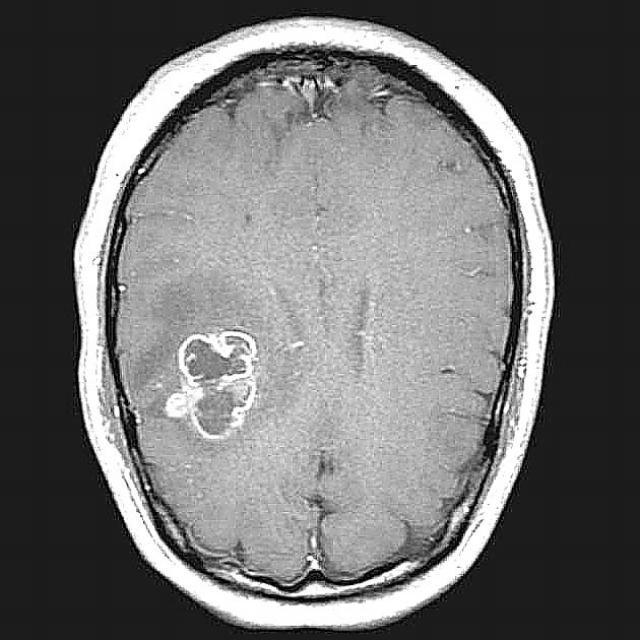tumor: (166, 327, 261, 442)
